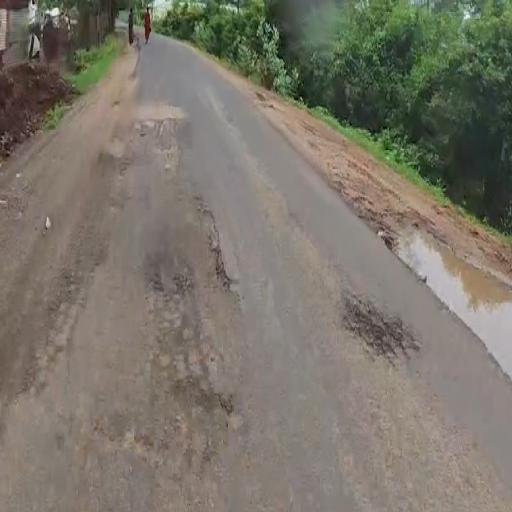alligator_crack: (130, 251, 256, 471), (323, 246, 437, 405), (193, 181, 242, 306)
edge_damage: (20, 207, 101, 410)
